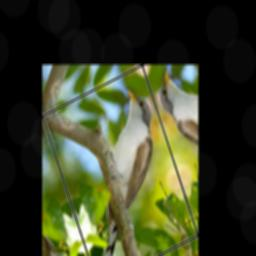Cuckoo: (46, 75, 193, 256)
